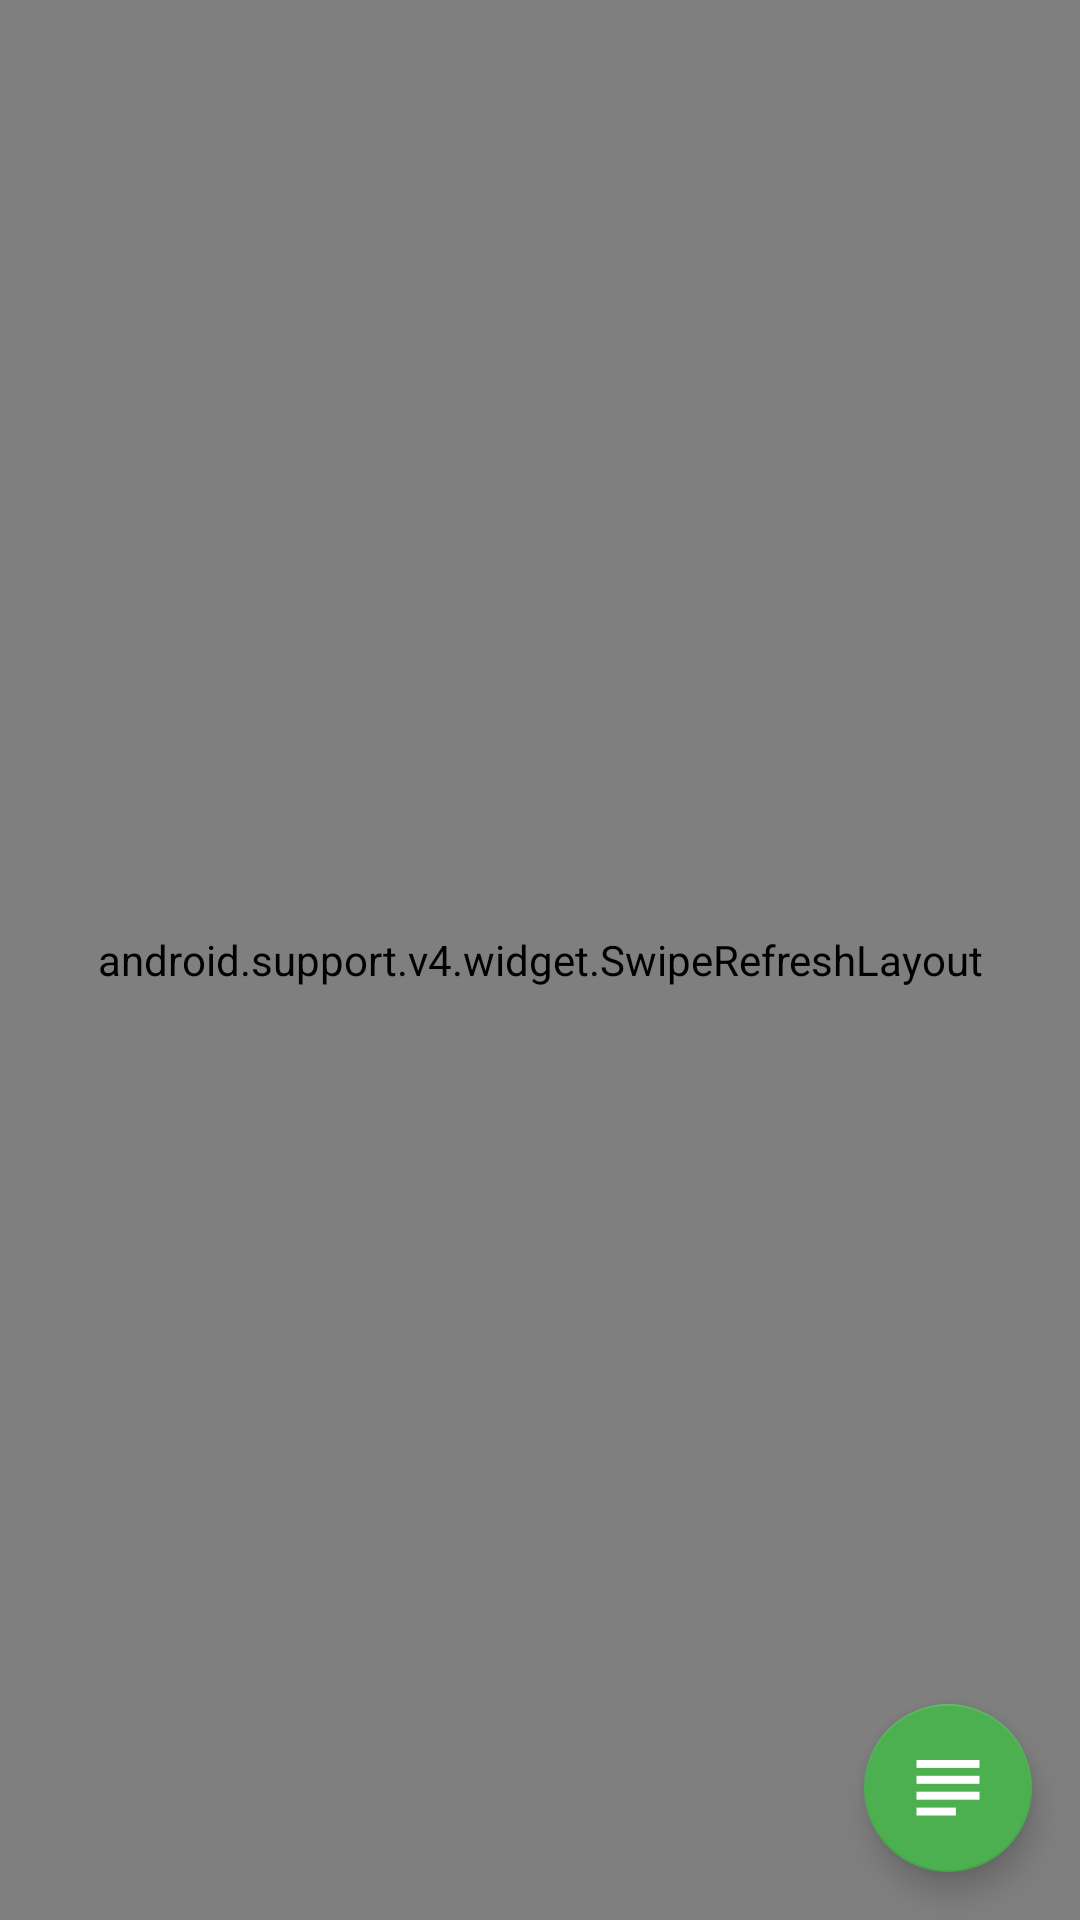

Icons on this 1080w x 1920h Android screen, each with its box as (x1, y1, x2, y2):
ikonfloat menu: (864, 1704, 1032, 1872)
